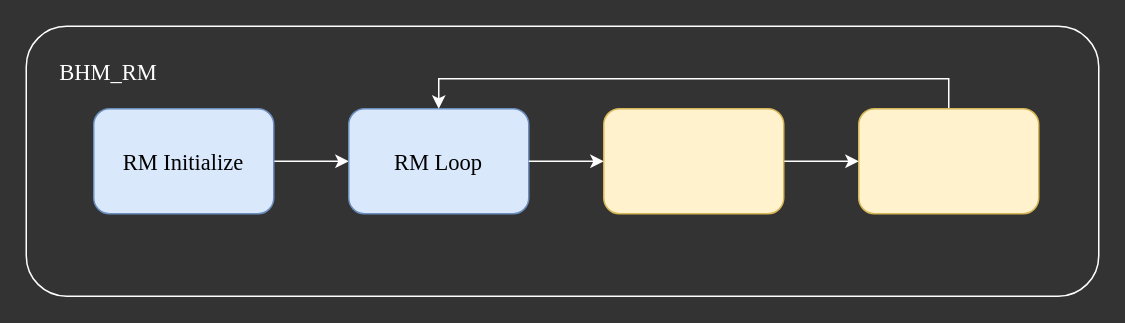
Some shapes in this 1125 by 323 pixel diagram are drawn without their labels. The centre of each missing label's shape, as x and y in pixels:
"Renderers Destroy" goes at [948,160].
"Renderers Run" goes at [693,160].
